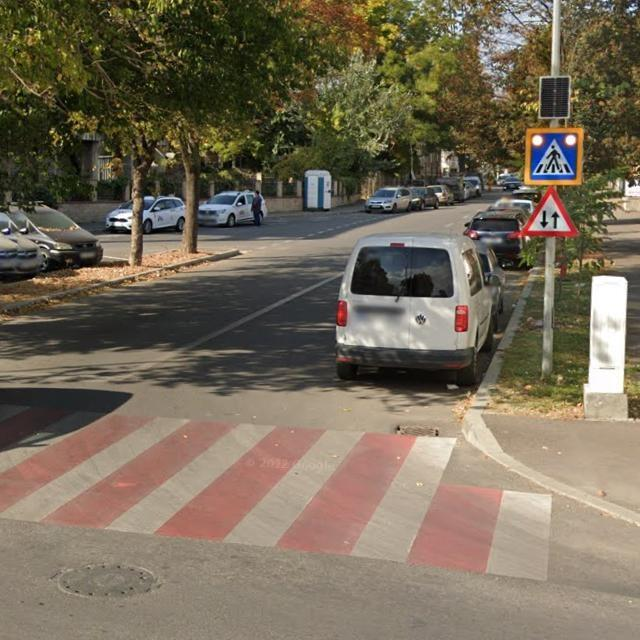warn_crosswalk: (525, 127, 582, 185)
